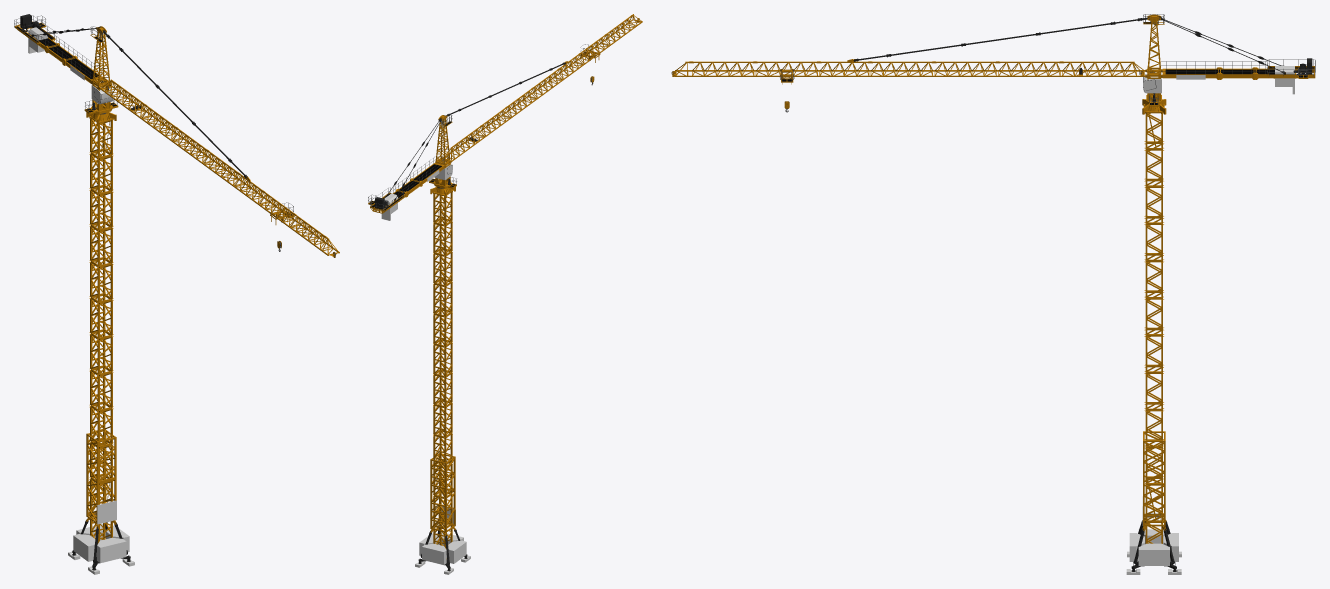
The model's file is Liebherr_280ECH.FBX.
3 views of the same model, side by side, from view 1: azimuth 30°, elevation 25°; view 2: azimuth 150°, elevation 25°; view 3: azimuth 270°, elevation 25° (orthographic). The views are drawn at different scales.
Visible parts, largest first — view 1: Body; view 2: Body; view 3: Body.
Part boxes in pixels (<box>): Body: <box>14,14,339,574</box>; Body: <box>368,14,642,574</box>; Body: <box>671,14,1315,574</box>.
Size of the model in its own units: 0.0693 by 0.8512 by 0.9053.
